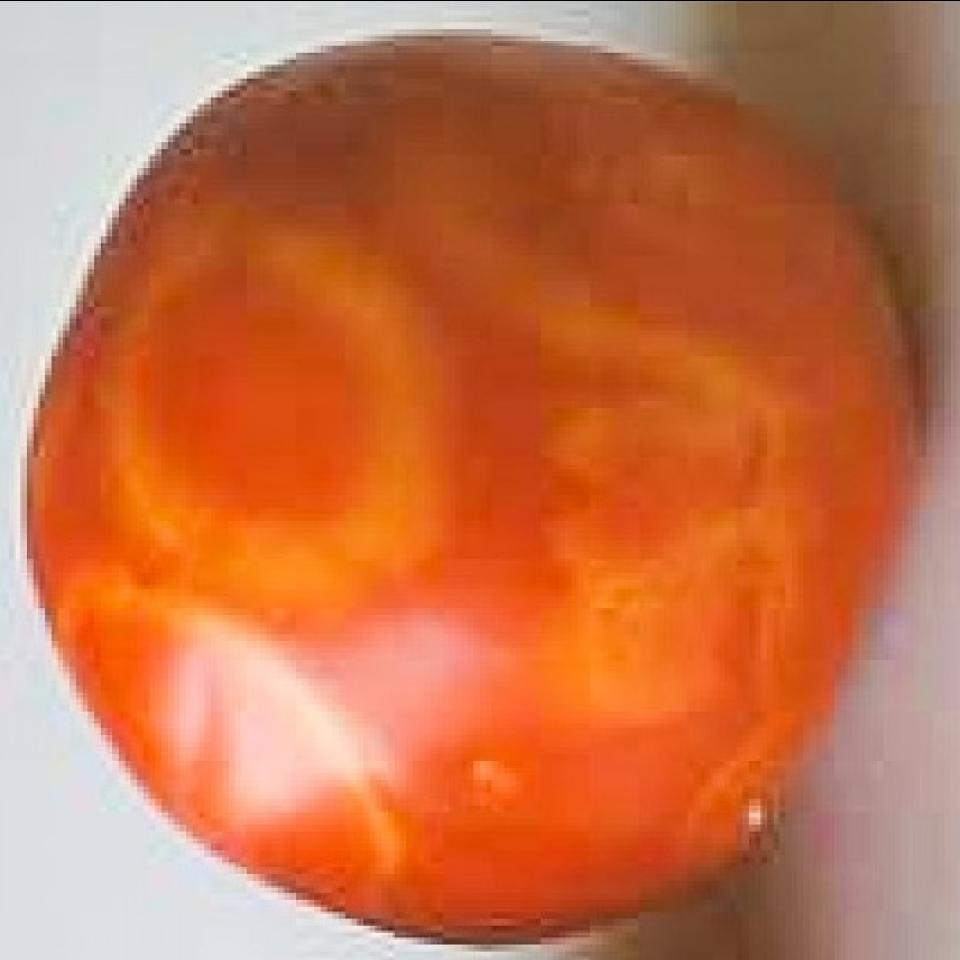Spotted wilt Virus: (17, 31, 914, 945)
